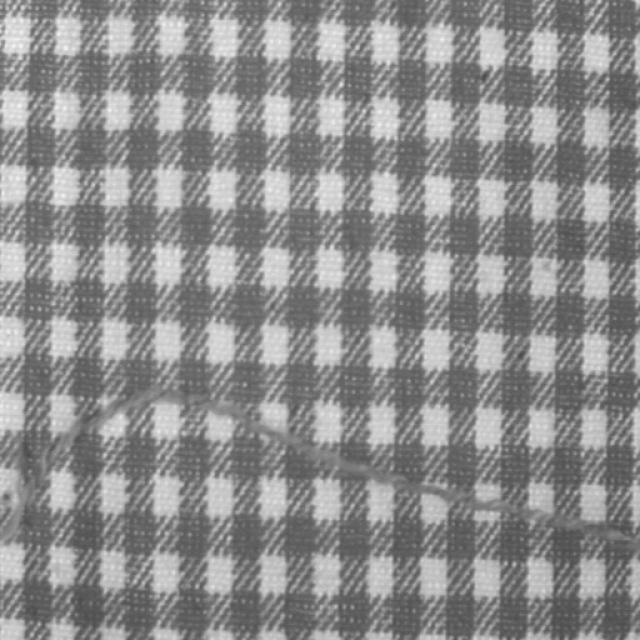Foreign-Body-Defect: (4, 371, 639, 542)
